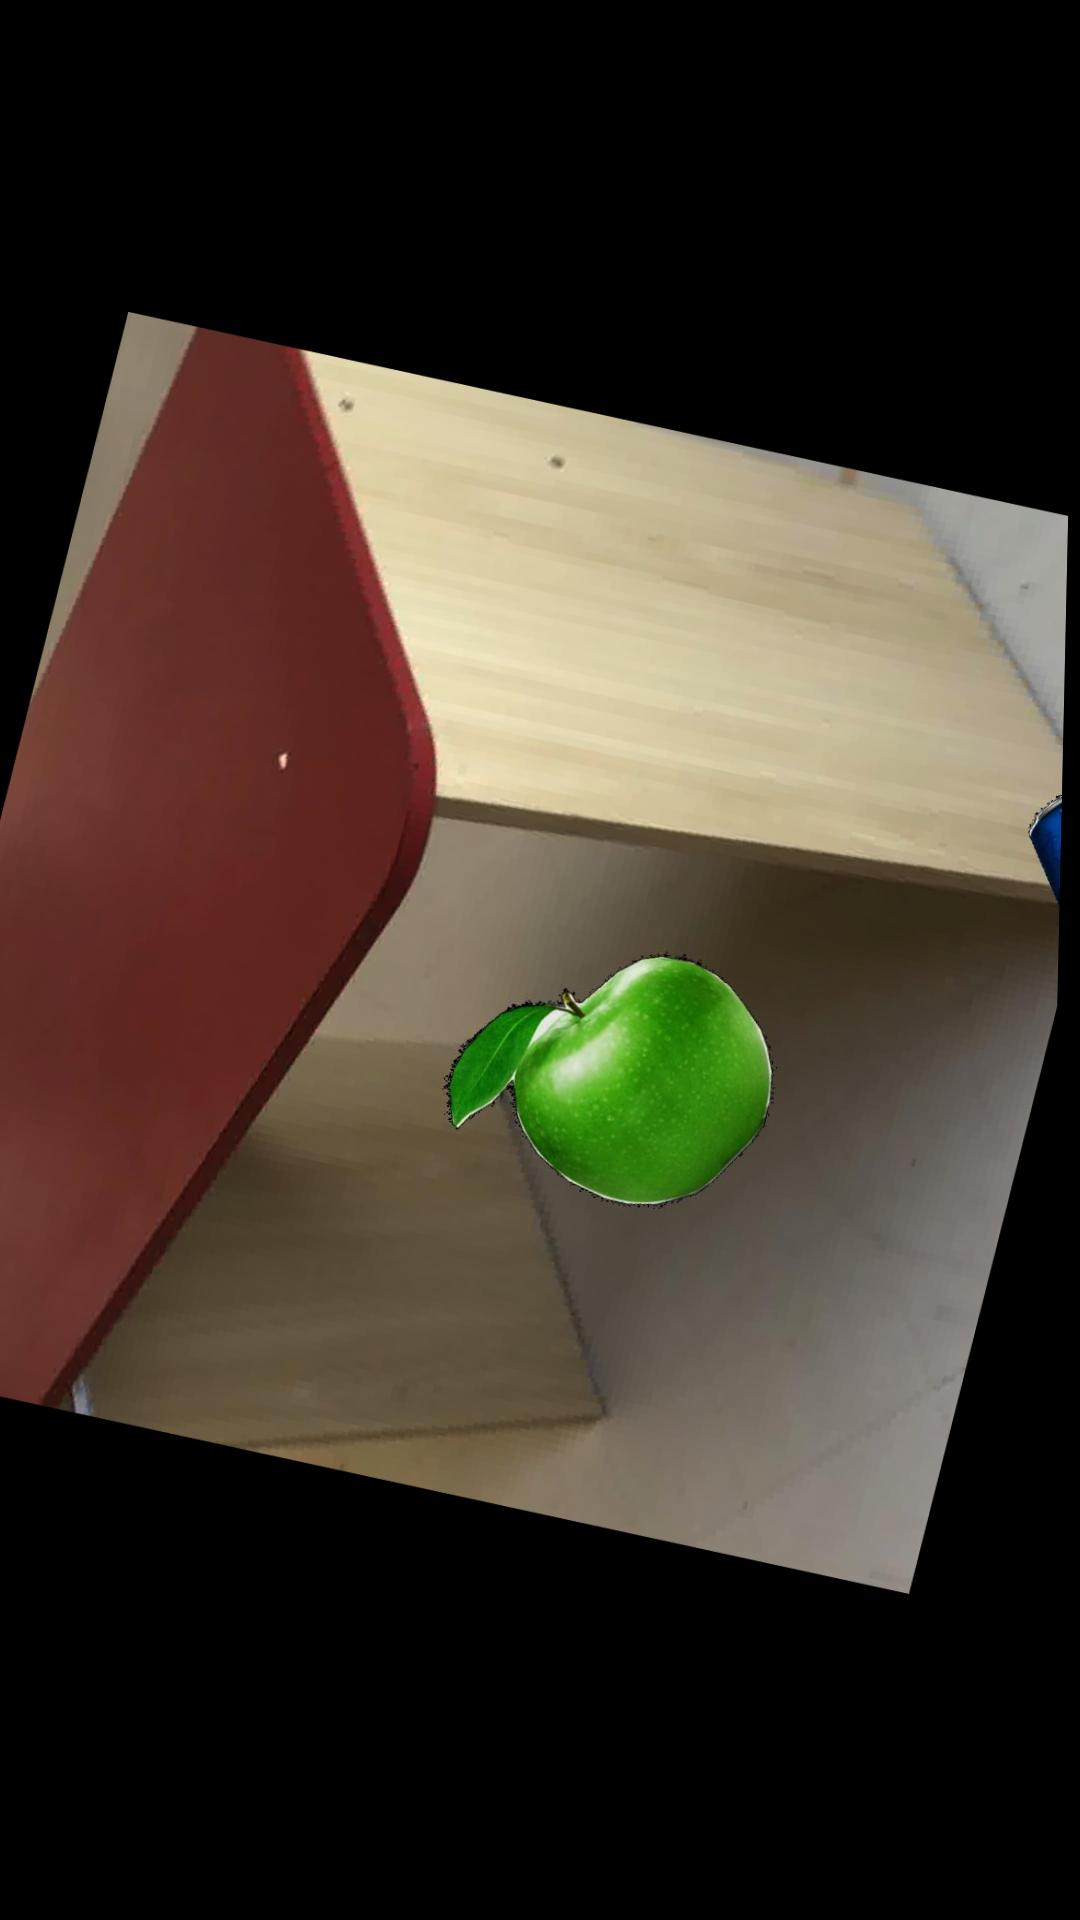green apple: (448, 956, 777, 1209)
tonic: (1031, 799, 1065, 914)
